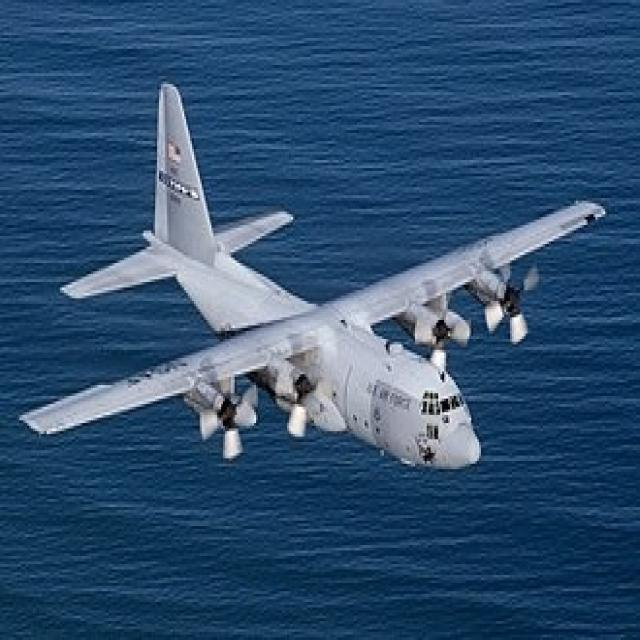C130: (6, 70, 640, 536)
